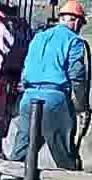gloves: (76, 109, 91, 138)
helmet: (57, 0, 86, 24)
vest: (27, 24, 86, 104)
